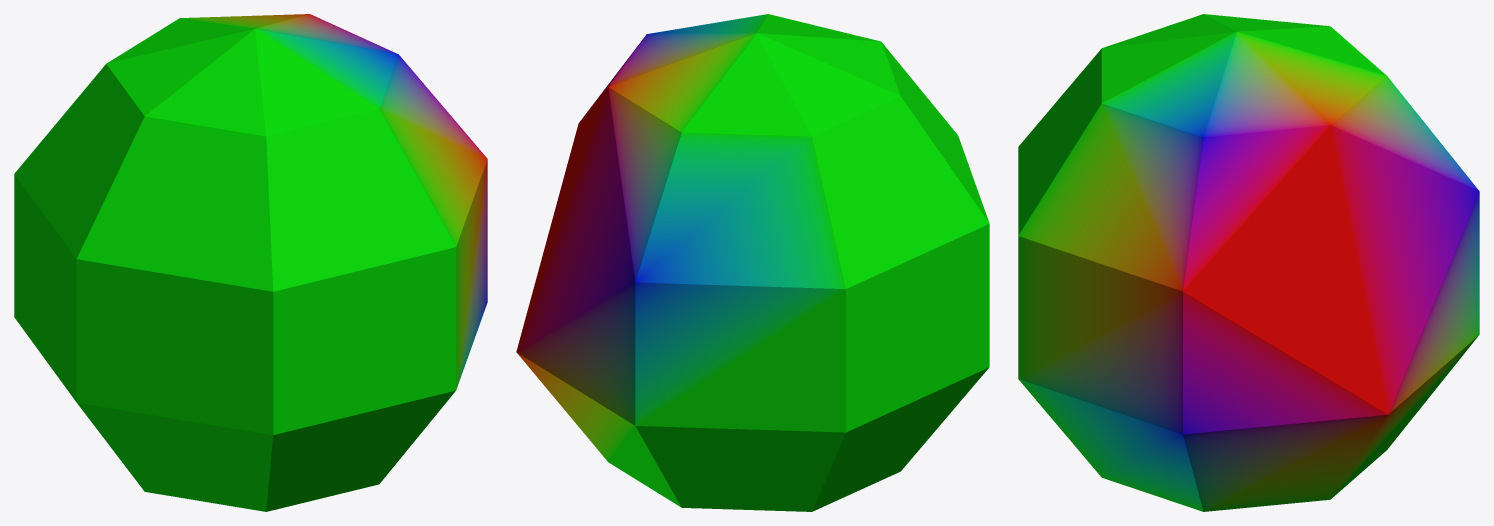
Rendered from after_decimating_conquest_1_1.obj.
3 renders of one model, left to right at view 1: azimuth 30°, elevation 25°; view 2: azimuth 150°, elevation 25°; view 3: azimuth 270°, elevation 25°, orthographic.
Size of the model in its own units: 1.85 by 2 by 1.81.
